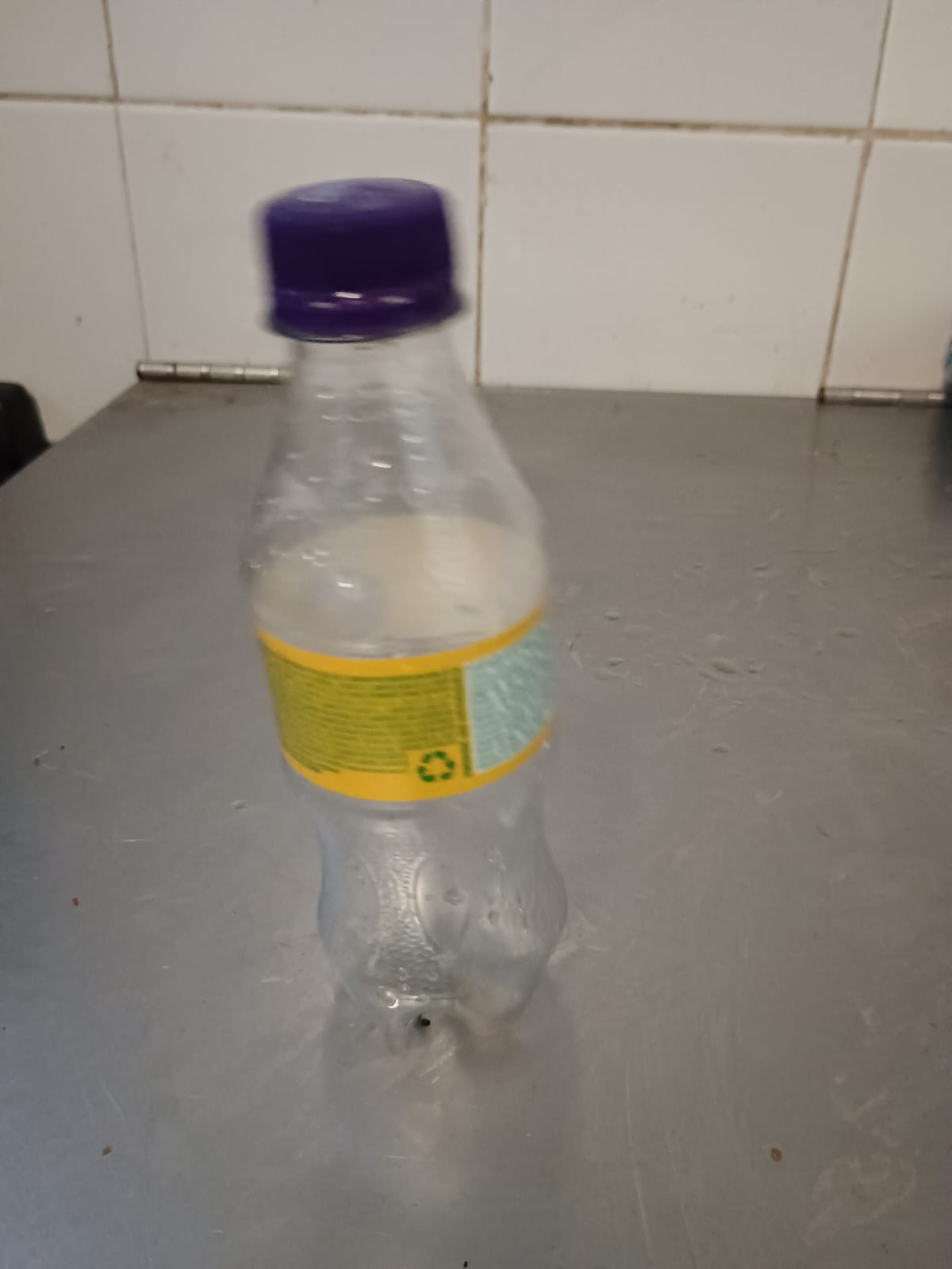Plastico: (235, 177, 574, 1032)
